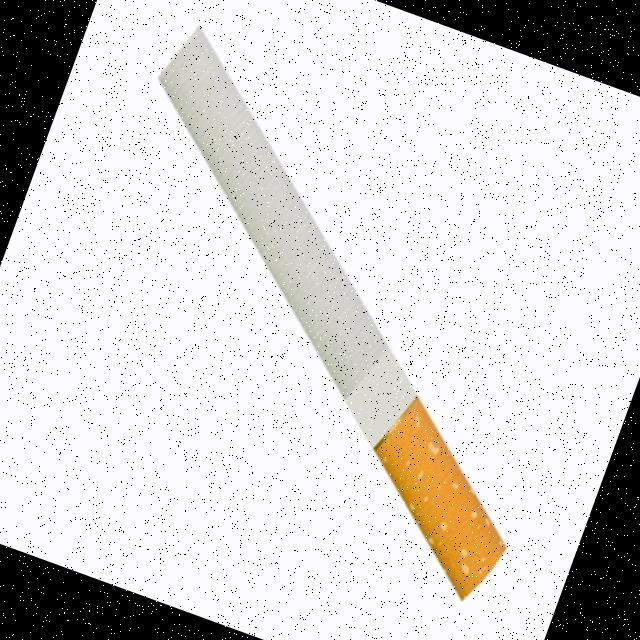cigarette: (16, 8, 636, 614)
